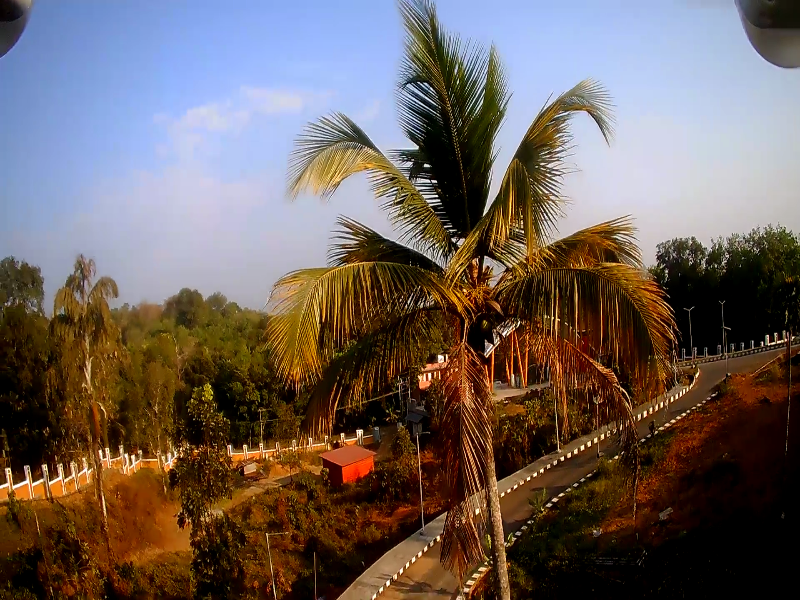coconut: (475, 314, 489, 330)
